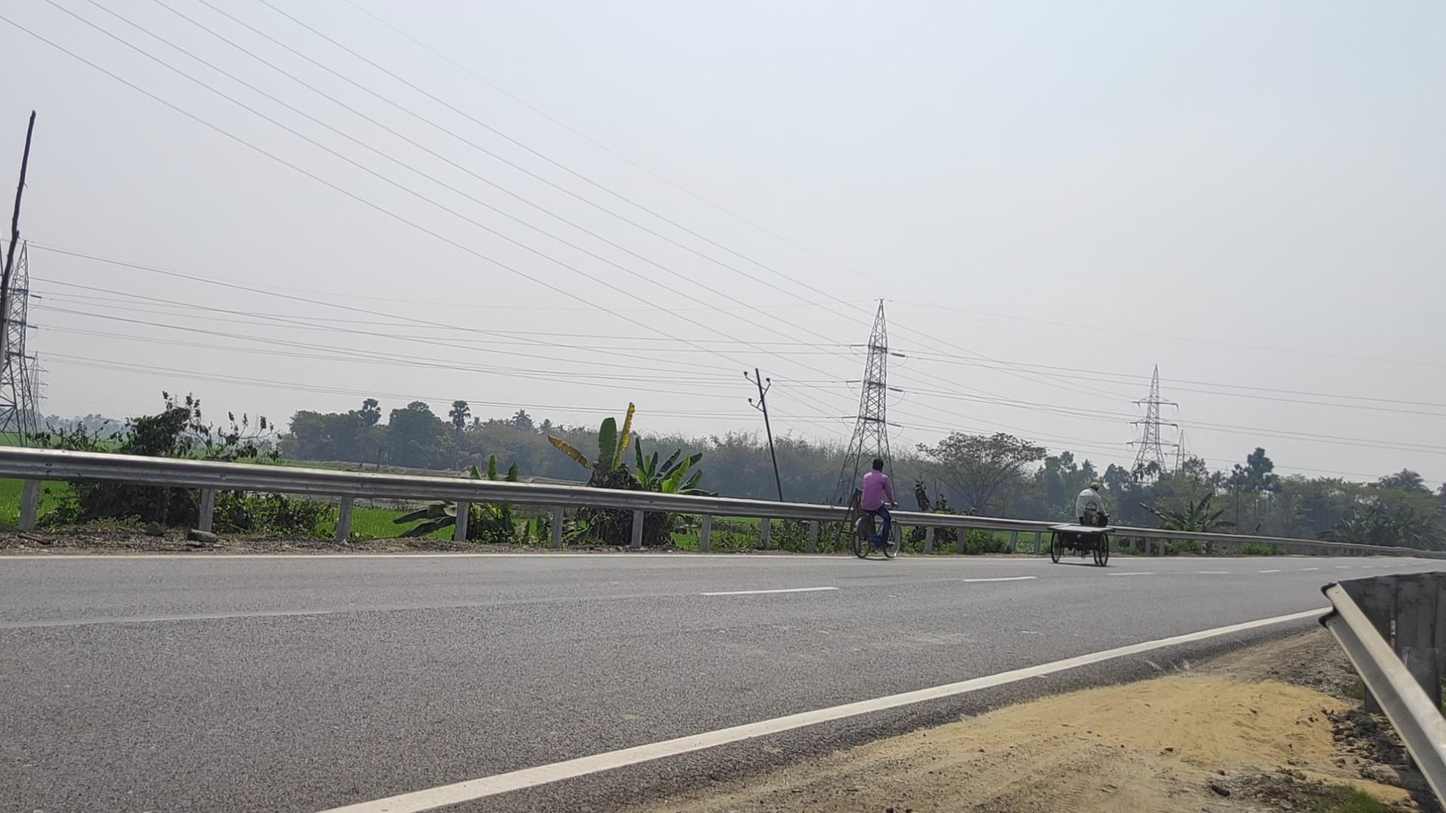bike: (852, 458, 901, 559)
